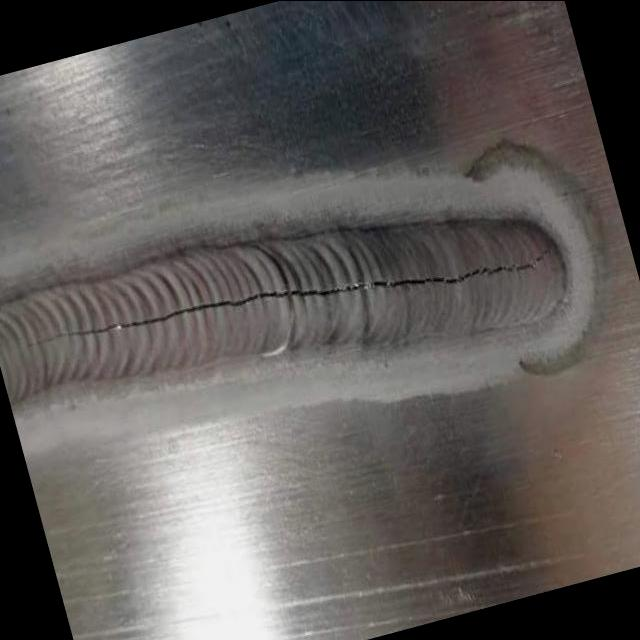defect: (19, 234, 556, 351)
